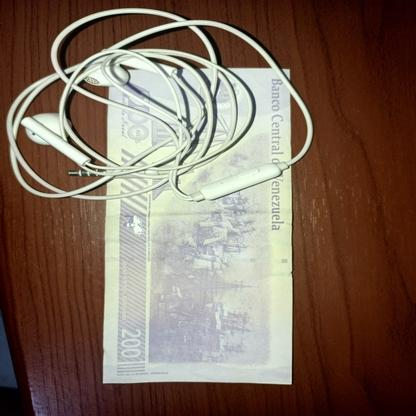two_hundred-back-vef: (101, 67, 294, 384)
